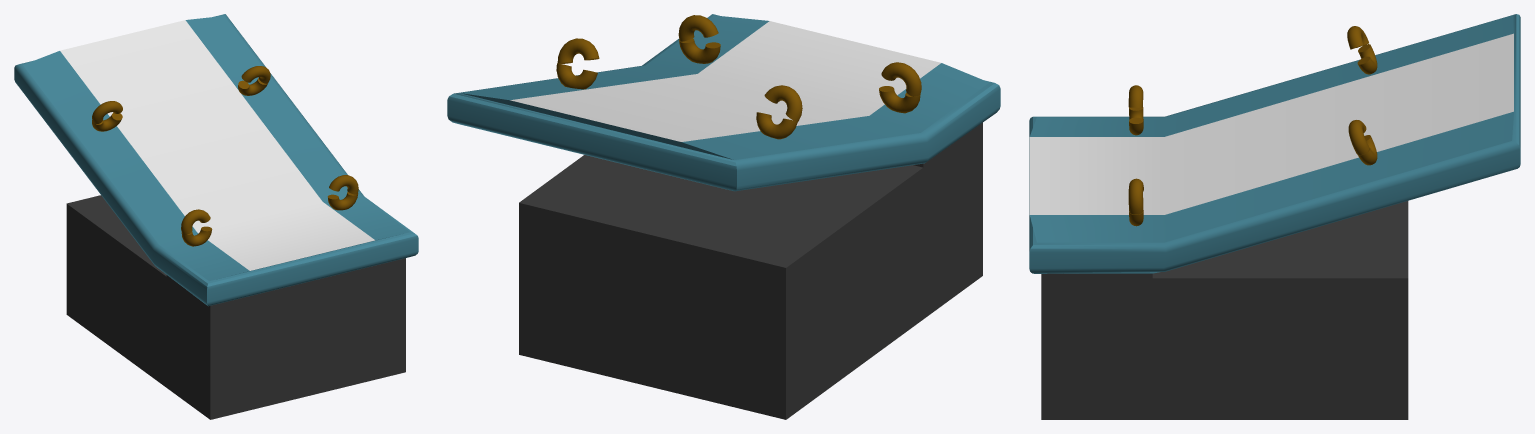
File: SurgeryBed.fbx
3 views of the same model, side by side, from view 1: azimuth 30°, elevation 25°; view 2: azimuth 150°, elevation 25°; view 3: azimuth 270°, elevation 25° (orthographic). The views are drawn at different scales.
Parts seen in each view (by area): view 1: Bed1; view 2: Bed1; view 3: Bed1.
Part boxes in pixels (bbox=[...]): Bed1: bbox=[14, 14, 418, 419]; Bed1: bbox=[447, 14, 1000, 419]; Bed1: bbox=[1029, 14, 1520, 419].
Size of the model in its own units: 38.67 by 39.25 by 60.97.
